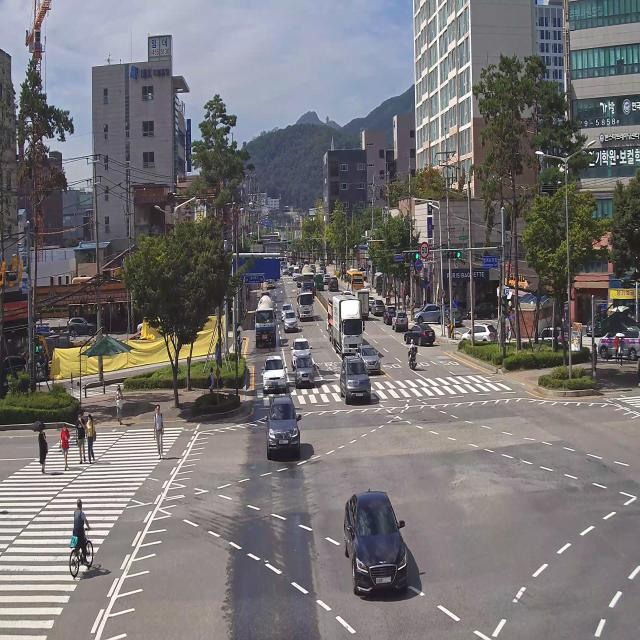Bus: (346, 267, 363, 295)
Car: (341, 476, 417, 613), (264, 393, 302, 467), (339, 350, 378, 414), (596, 318, 640, 364), (357, 337, 387, 384), (262, 350, 289, 401), (457, 324, 501, 353), (0, 344, 29, 386), (404, 319, 438, 352), (61, 310, 99, 338), (532, 322, 564, 354), (465, 297, 501, 324), (294, 349, 317, 391), (289, 334, 315, 368), (413, 299, 443, 327), (581, 303, 603, 337), (444, 303, 464, 330), (281, 309, 301, 335), (392, 308, 409, 333), (382, 304, 398, 328), (371, 298, 385, 317), (280, 301, 293, 317), (329, 275, 340, 291), (322, 272, 332, 286), (367, 294, 376, 308), (296, 272, 304, 287), (282, 266, 289, 276), (288, 266, 294, 277), (318, 269, 325, 278), (321, 266, 327, 274), (281, 261, 286, 270)
Motorcycle: (402, 337, 422, 372)
Truck: (320, 292, 363, 362), (250, 284, 279, 350), (293, 283, 315, 328), (301, 265, 316, 297), (356, 289, 370, 323), (264, 274, 276, 290), (288, 249, 297, 268), (314, 274, 324, 291), (292, 264, 301, 280)
